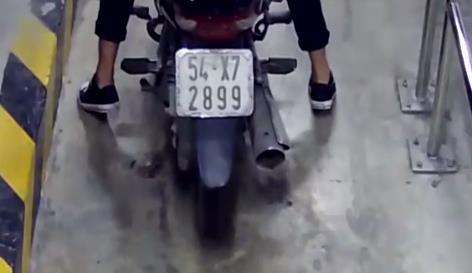lisence: (174, 47, 255, 117)
